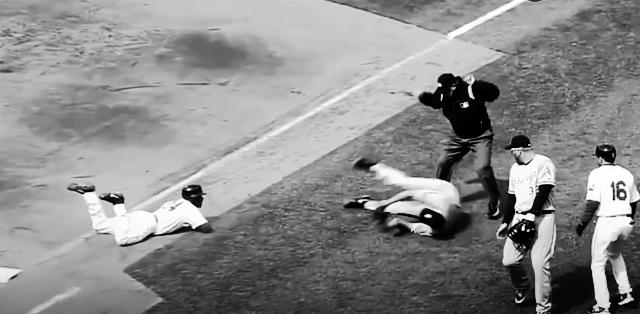jatuh: (339, 152, 469, 244), (64, 176, 218, 250)
